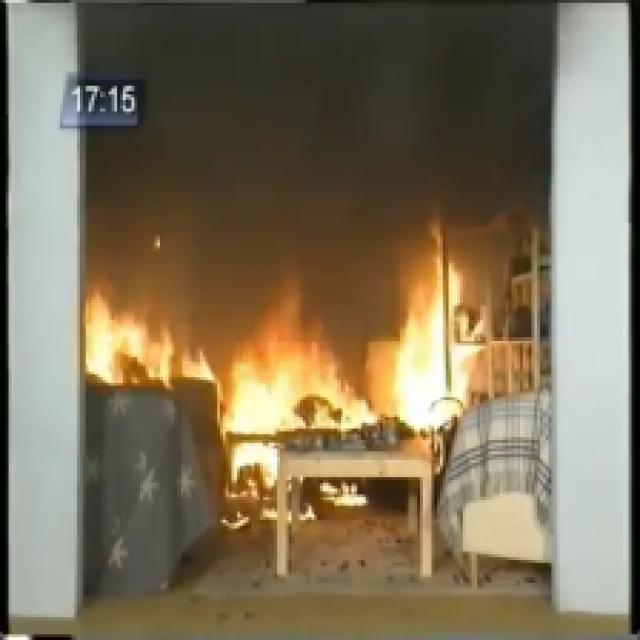Fire: (64, 278, 505, 436)
